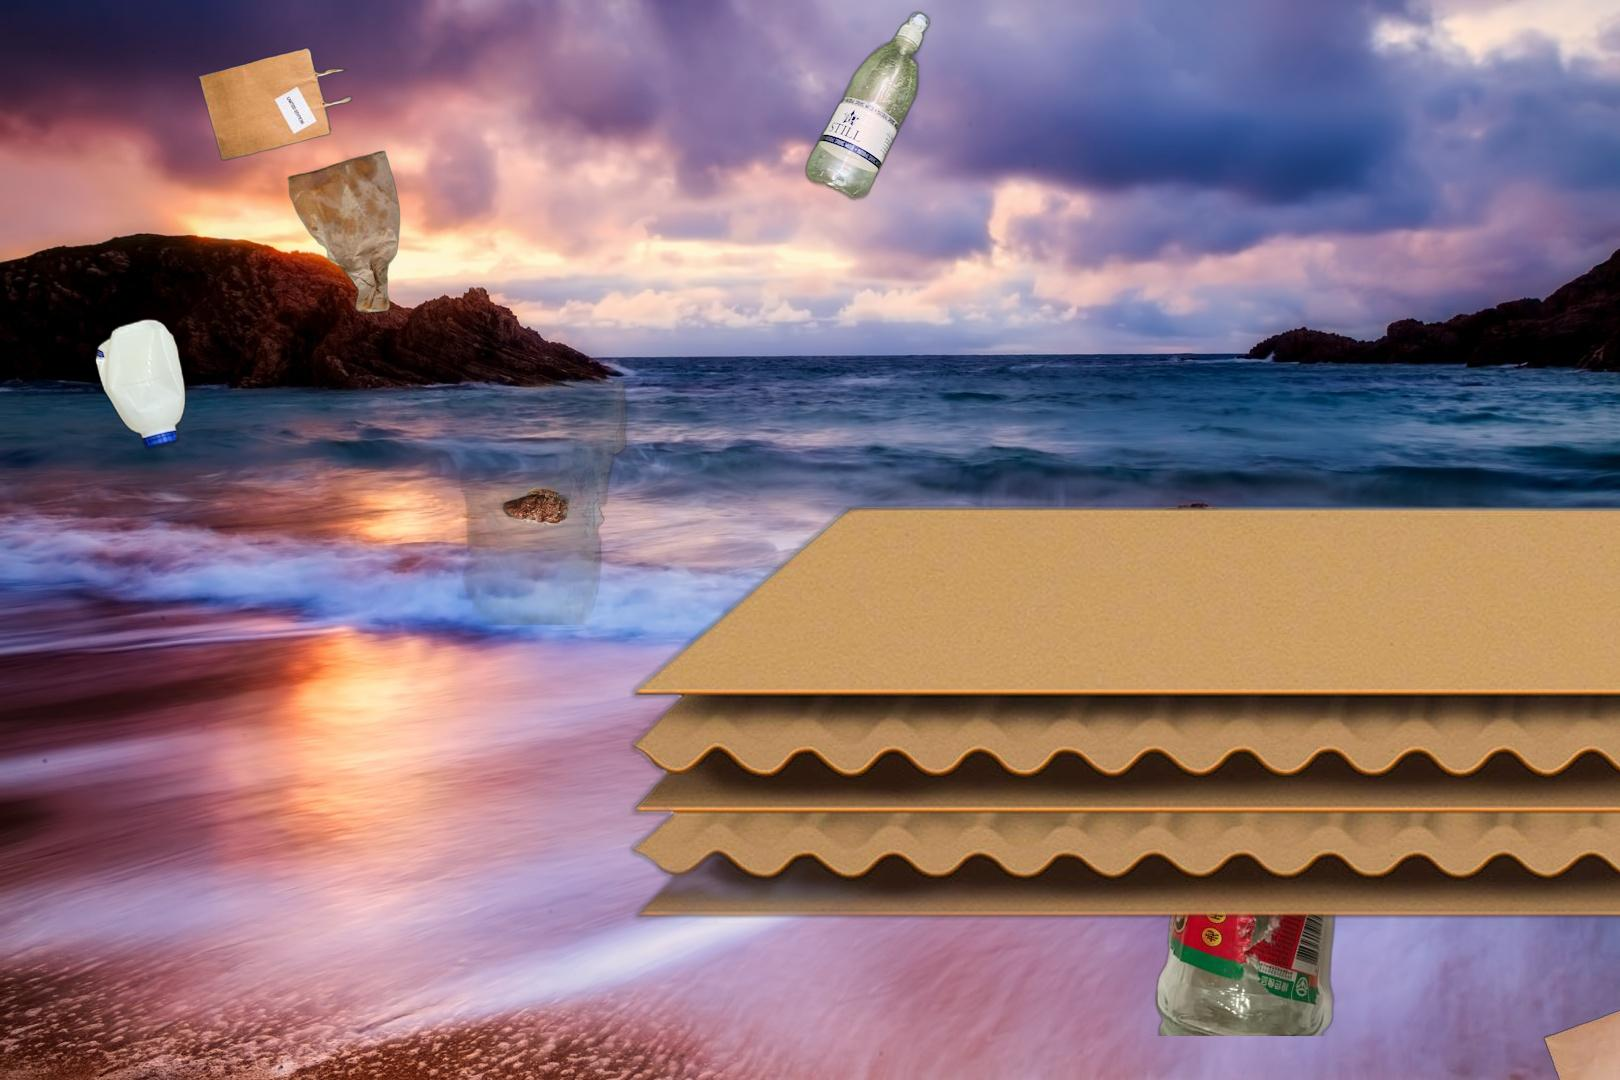glass: (1152, 708, 1354, 1035)
paper-bag: (196, 46, 403, 316), (1536, 993, 1620, 1080)
plastic-bottles: (802, 6, 934, 205), (90, 313, 190, 454)
trash: (441, 364, 634, 626), (943, 727, 1260, 886)
trashbox-cardboard: (620, 493, 1620, 1080)
